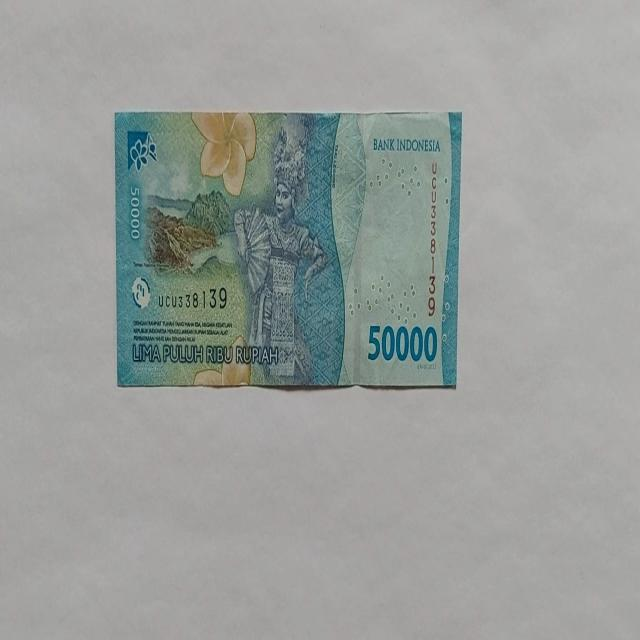lima puluh ribu rupiah: (114, 110, 462, 390), (232, 125, 328, 385), (366, 320, 438, 366)
